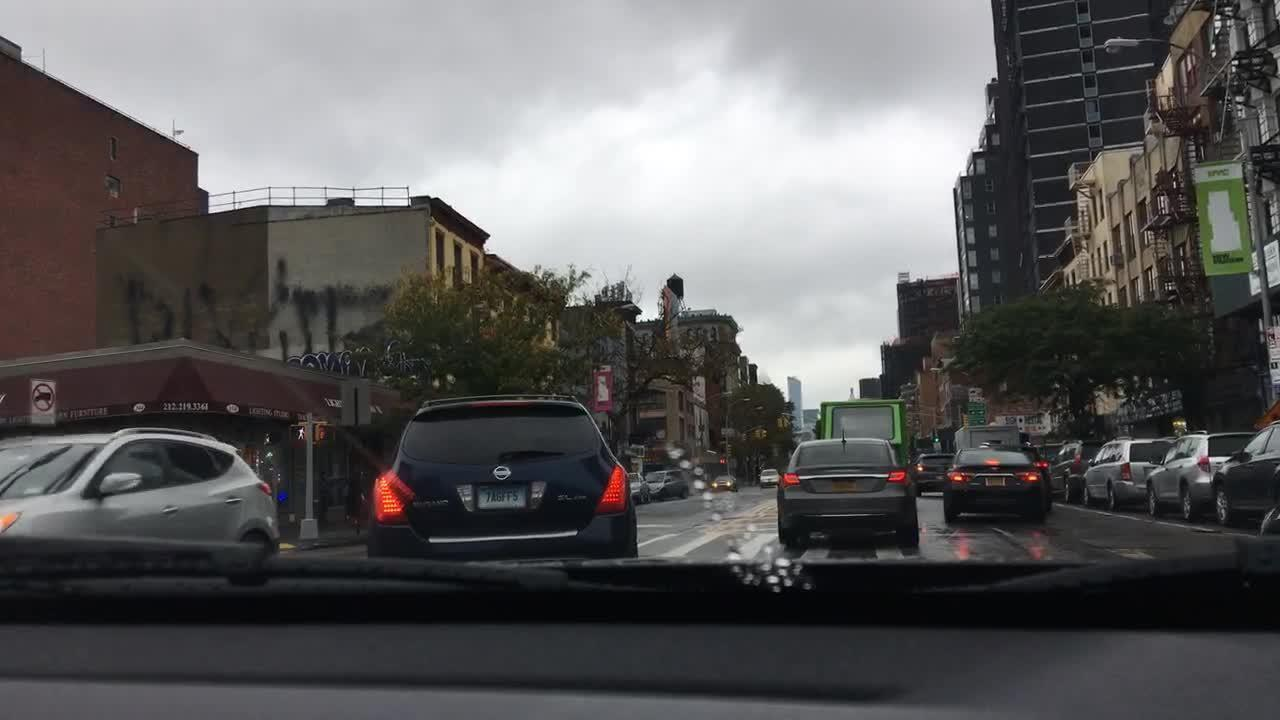Nissan: (488, 463, 515, 484)
